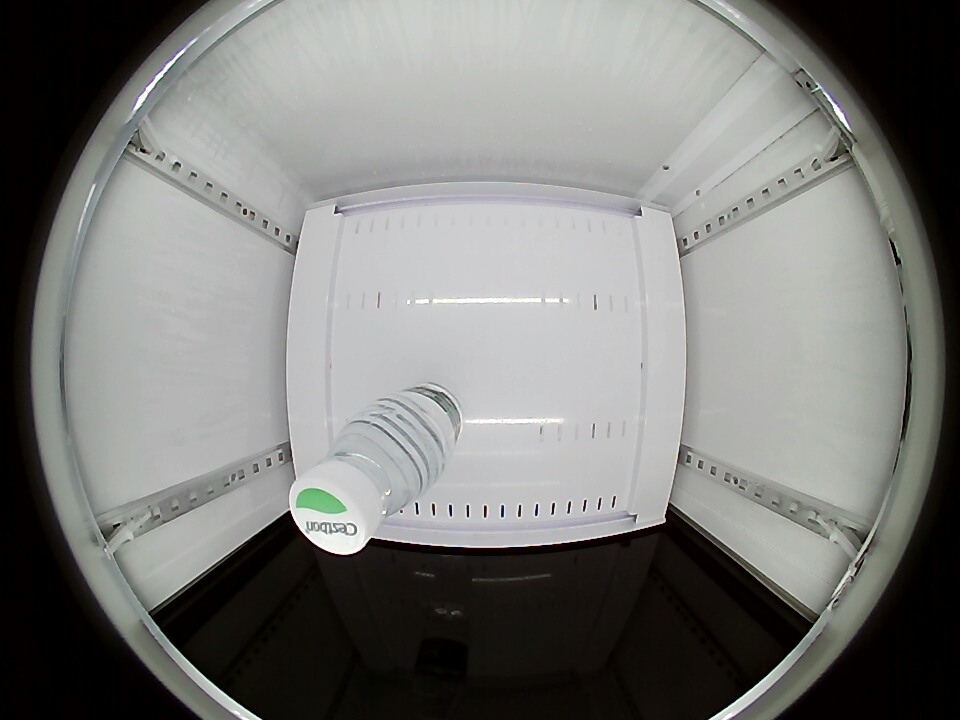yibao: (290, 411, 432, 555)
